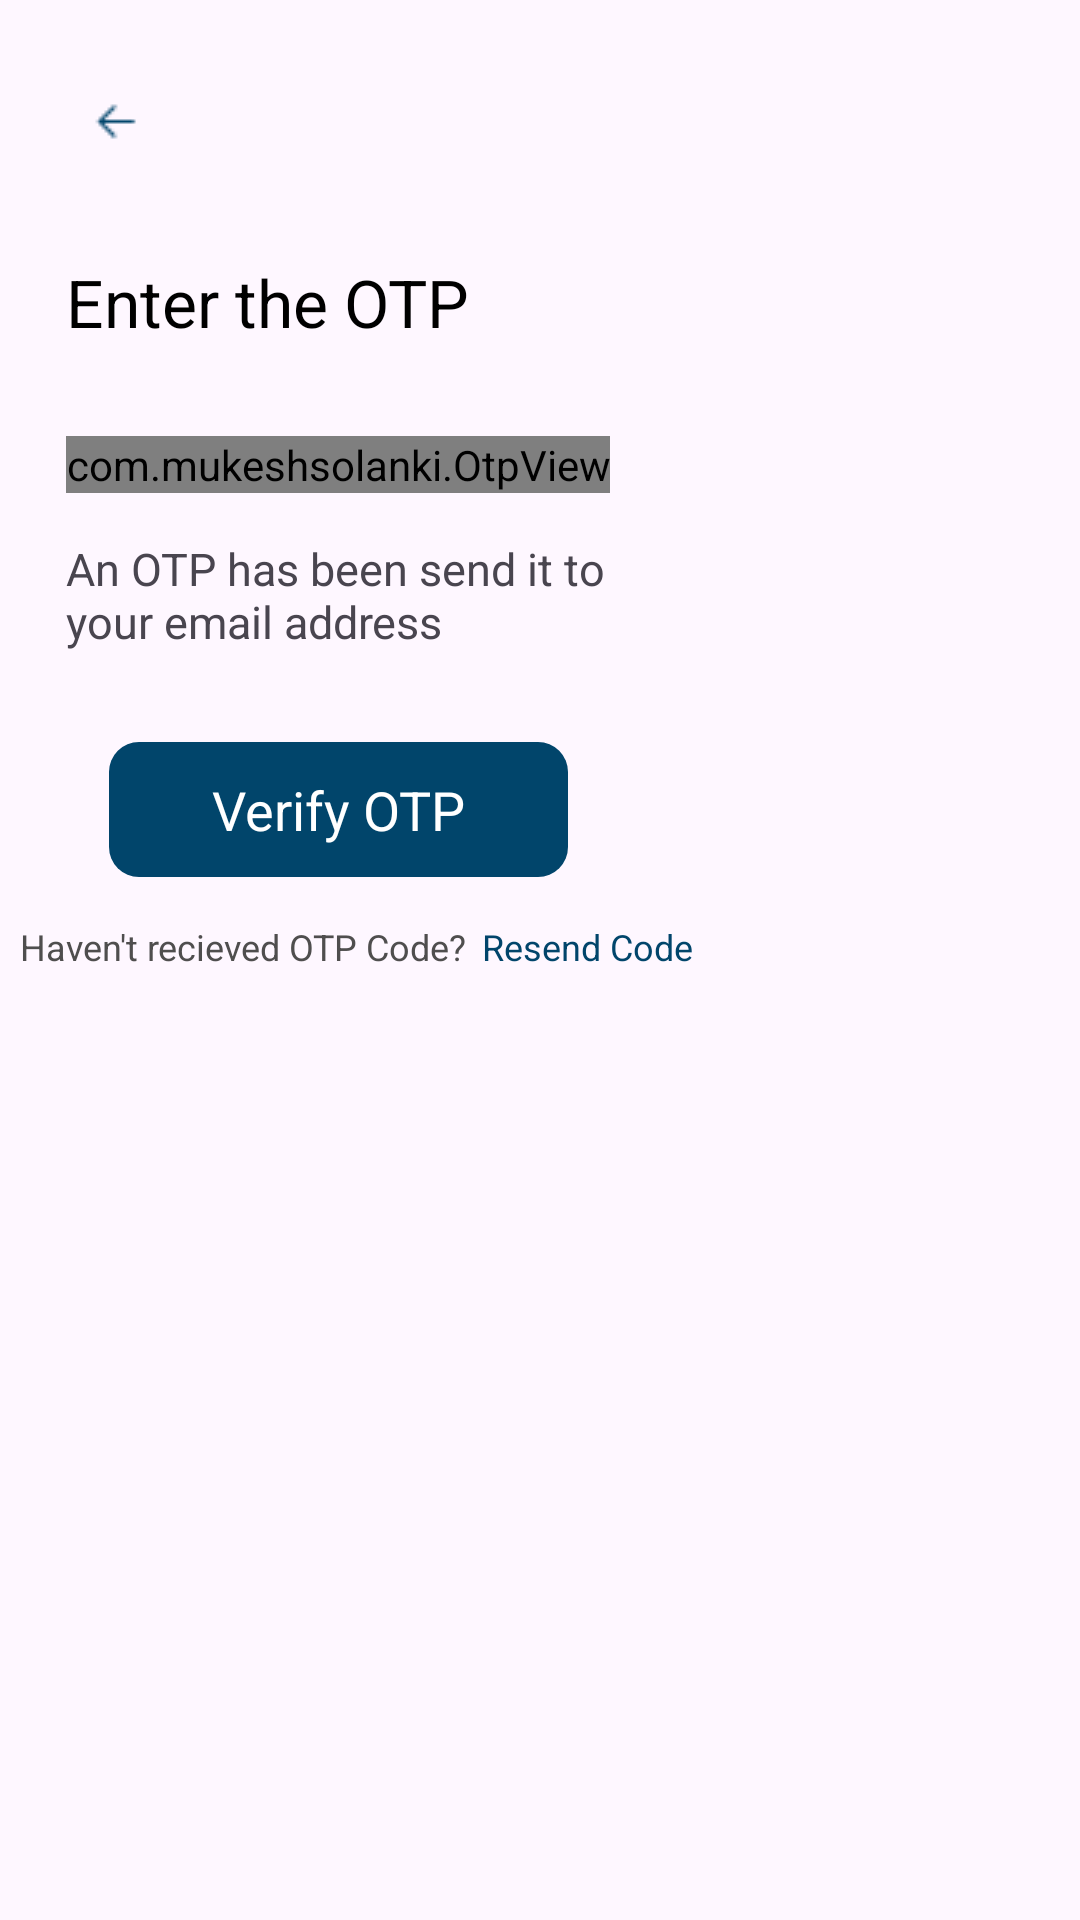

Named icons in this screenshot (1080×1920) and their bounding boxes, (x1, y1, x2, y2):
back: (96, 104, 136, 139)
